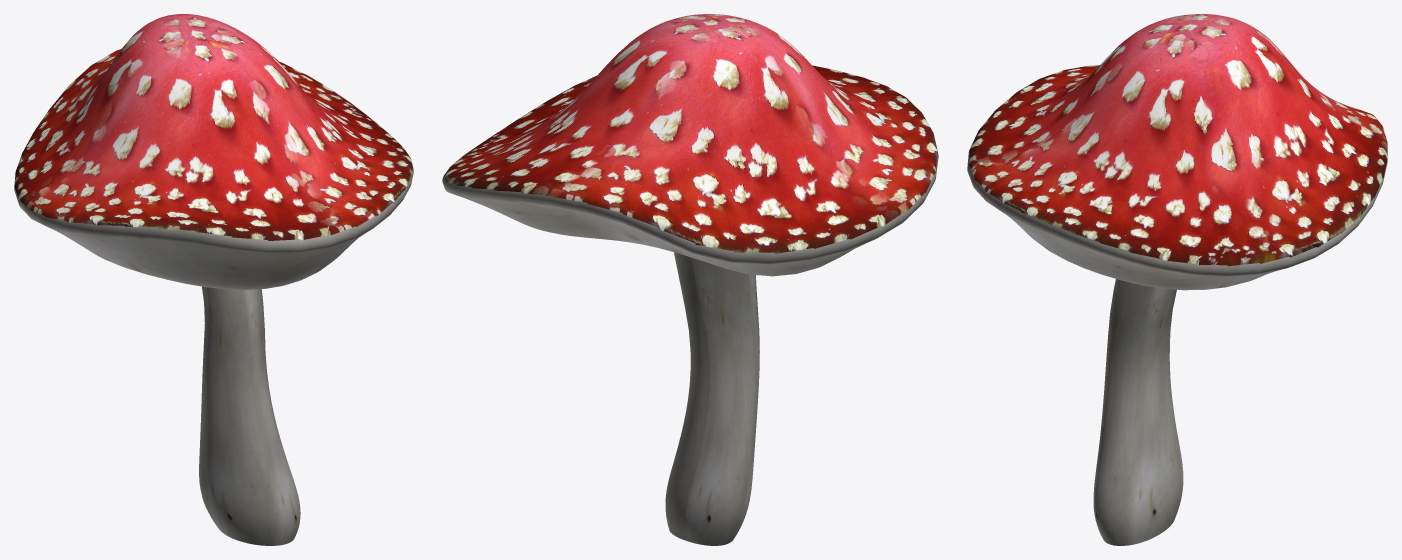
File: fungus.FBX
3 renders of one model, left to right at view 1: azimuth 30°, elevation 25°; view 2: azimuth 150°, elevation 25°; view 3: azimuth 270°, elevation 25°, orthographic. The views are drawn at different scales.
Parts seen in each view (by area): view 1: up, down, Line131; view 2: up, down, Line131; view 3: up, down, Line131.
Part boxes in pixels (x1,y1,x2,y2): up: [14, 14, 412, 240]; down: [199, 286, 300, 545]; Line131: [14, 160, 413, 289]; up: [443, 14, 937, 253]; down: [665, 252, 759, 545]; Line131: [442, 134, 938, 276]; up: [968, 14, 1387, 266]; down: [1093, 279, 1183, 545]; Line131: [967, 137, 1387, 290].
Bounding box in the file's own units: 169 × 217 × 168.
Materials: 3 (3 with a texture image).
